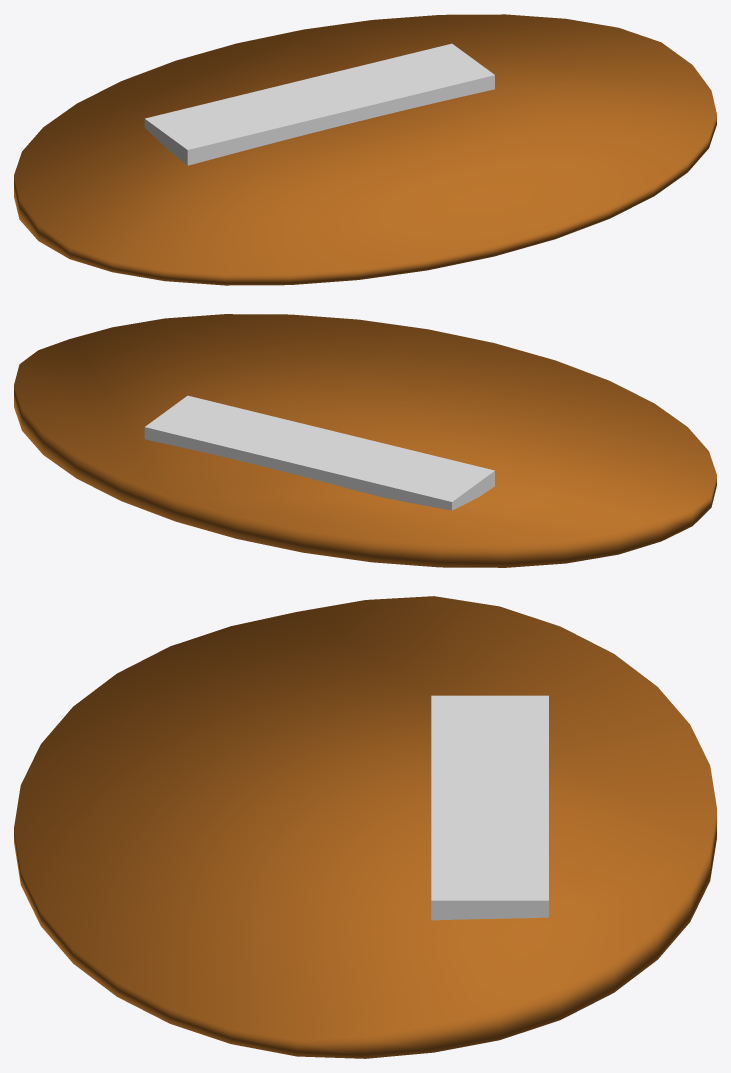
The model's file is Mound.fbx.
3 renders of one model, top to bottom at view 1: azimuth 30°, elevation 25°; view 2: azimuth 150°, elevation 25°; view 3: azimuth 270°, elevation 25°, orthographic. The views are drawn at different scales.
Parts seen in each view (by area): view 1: Cube; view 2: Cube; view 3: Cube.
Boxes of the visible parts, box(x1,y1,x2,y2) form: Cube: box(14, 14, 716, 285); Cube: box(14, 314, 716, 567); Cube: box(14, 596, 716, 1058).
Bounding box in the file's own units: 1757 × 82.89 × 1195.
